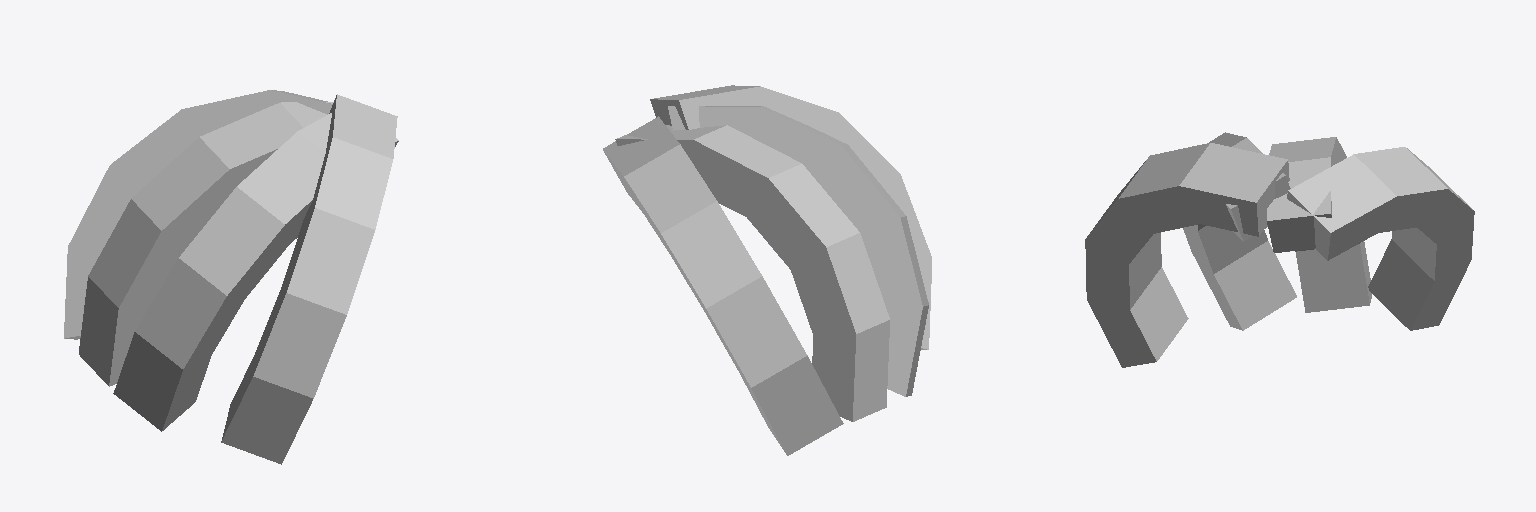
Rendered from bananaBunch.obj.
3 views of the same model, side by side, from view 1: azimuth 30°, elevation 25°; view 2: azimuth 150°, elevation 25°; view 3: azimuth 270°, elevation 25° (orthographic).
Parts seen in each view (by area): view 1: bananaBunch; view 2: bananaBunch; view 3: bananaBunch.
Part boxes in pixels (left/top/right/bottom): bananaBunch: left=64, top=90, right=398, bottom=464; bananaBunch: left=603, top=85, right=931, bottom=455; bananaBunch: left=1085, top=132, right=1474, bottom=367.
Bounding box in the file's own units: 0.9156 × 0.861 × 1.1.